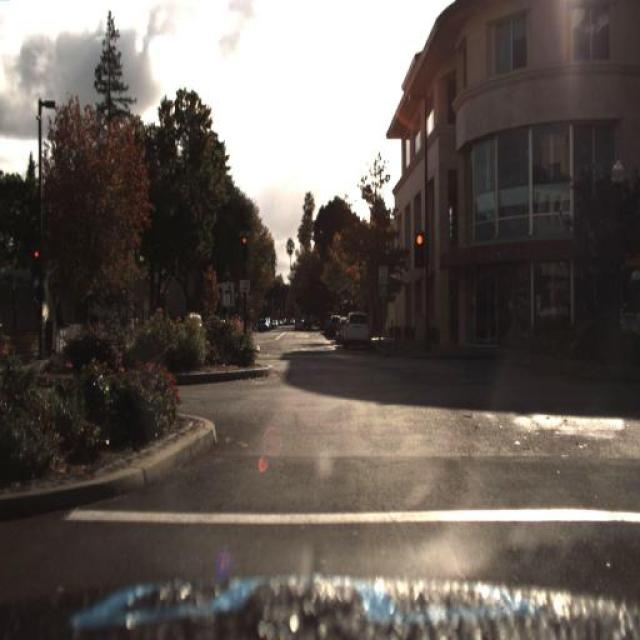car: (338, 313, 370, 357)
trafficLight: (586, 294, 602, 350)
trafficLight-Green: (28, 231, 46, 275)
trafficLight-RedLeft: (234, 218, 252, 260), (411, 230, 427, 274), (28, 248, 38, 284)
trafficLight-Yellow: (239, 229, 250, 267)
